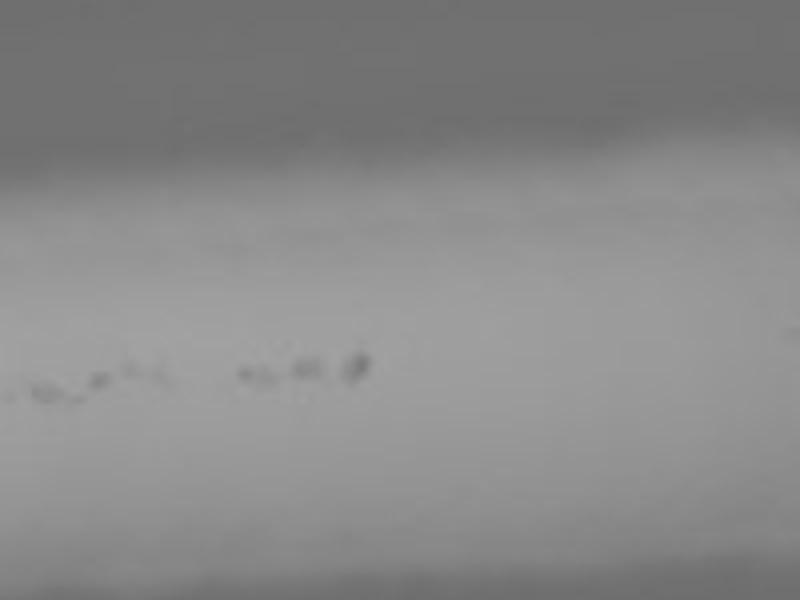defect: (234, 362, 275, 392), (342, 347, 371, 386), (289, 353, 325, 383), (143, 366, 177, 395), (25, 375, 61, 402), (115, 352, 142, 383), (85, 372, 109, 399), (65, 392, 85, 408)
